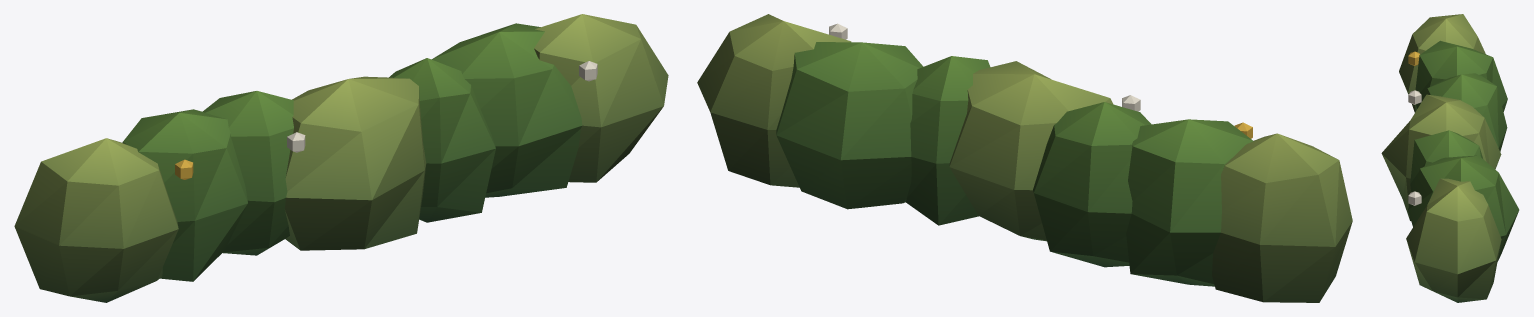
The model's file is hedge_4.glb.
3 views of the same model, side by side, from view 1: azimuth 30°, elevation 25°; view 2: azimuth 150°, elevation 25°; view 3: azimuth 270°, elevation 25° (orthographic). The views are drawn at different scales.
Parts seen in each view (by area): view 1: hedge_4; view 2: hedge_4; view 3: hedge_4.
Part boxes in pixels (left/top/right/bottom): hedge_4: left=14, top=14, right=668, bottom=302; hedge_4: left=697, top=14, right=1352, bottom=302; hedge_4: left=1381, top=14, right=1519, bottom=302.
Bounding box in the file's own units: 4.57 × 1.12 × 1.19.
